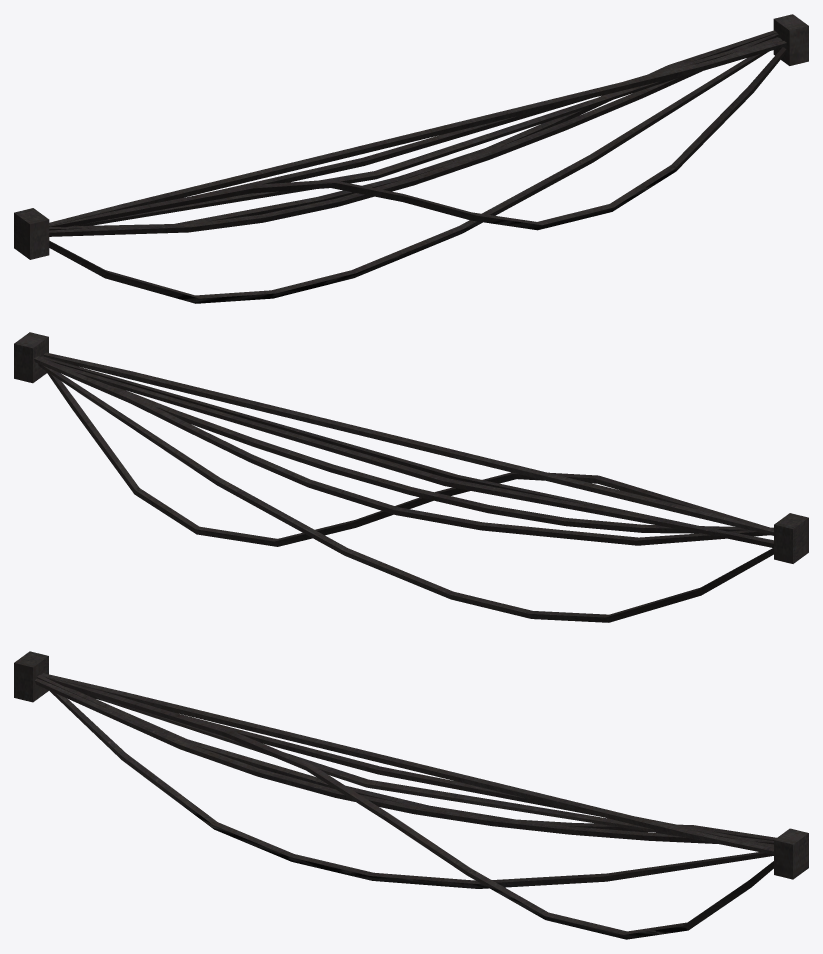
File: Wire3.FBX
3 renders of one model, top to bottom at view 1: azimuth 30°, elevation 25°; view 2: azimuth 150°, elevation 25°; view 3: azimuth 330°, elevation 25°, orthographic.
Visible parts, largest first — view 1: HangingWires_1D; view 2: HangingWires_1D; view 3: HangingWires_1D.
Boxes of the visible parts, <box> form: HangingWires_1D: <box>14,14,808,303</box>; HangingWires_1D: <box>14,332,808,622</box>; HangingWires_1D: <box>14,651,808,939</box>.
Bounding box in the file's own units: 520 × 97.79 × 37.24.
